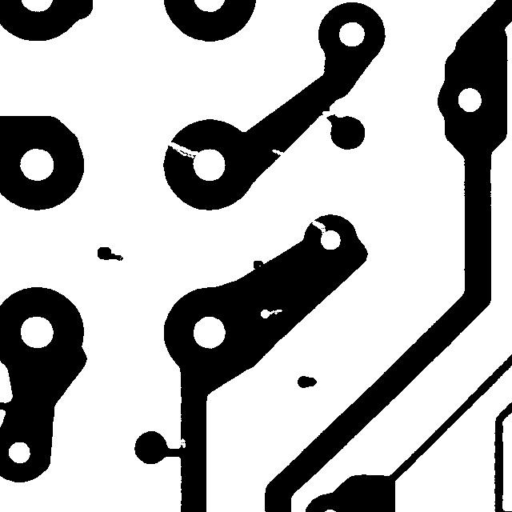copper: (90, 239, 130, 268), (290, 368, 324, 395)
mousebite: (264, 142, 291, 163), (172, 430, 193, 455)
open: (159, 133, 206, 166), (304, 213, 335, 243), (313, 99, 343, 127)
pin-hole: (253, 302, 290, 326)
spur: (246, 253, 270, 278)
